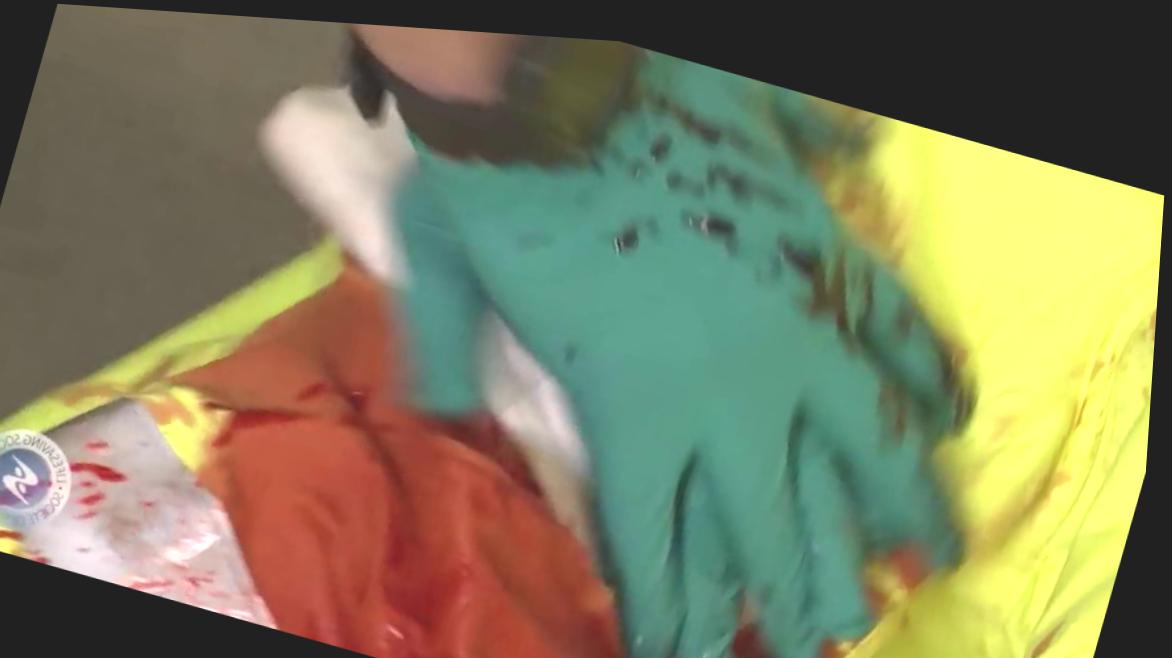Fire: (181, 261, 635, 658), (870, 533, 936, 604), (741, 611, 785, 658), (740, 612, 783, 658), (823, 629, 863, 658), (73, 460, 131, 480), (617, 215, 639, 244)
